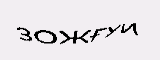Ж: (58, 25, 90, 49)
З: (14, 24, 34, 42)
И: (119, 12, 140, 38)
О: (35, 25, 58, 47)
У: (107, 20, 119, 40)
Ғ: (91, 25, 106, 44)
